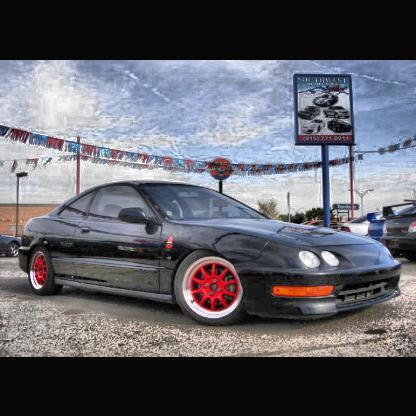Acura Integra Type R 2001: (18, 179, 404, 328)
